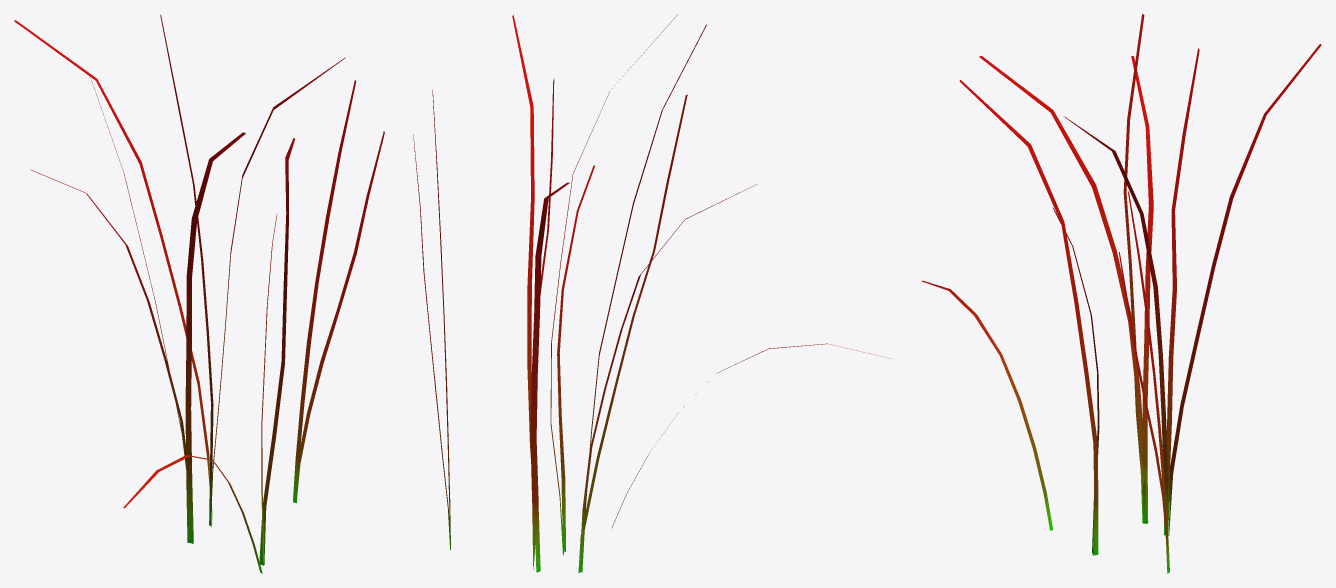
Rendered from Softstem Bulrush_LOD2_Var1_uehjcafia.fbx.
3 views of the same model, side by side, from view 1: azimuth 30°, elevation 25°; view 2: azimuth 150°, elevation 25°; view 3: azimuth 270°, elevation 25° (orthographic). The views are drawn at different scales.
Parts seen in each view (by area): view 1: _8410_Var1_LOD2; view 2: _8410_Var1_LOD2; view 3: _8410_Var1_LOD2.
Boxes of the visible parts, <box> form: _8410_Var1_LOD2: <box>14,14,384,573</box>; _8410_Var1_LOD2: <box>413,14,891,573</box>; _8410_Var1_LOD2: <box>921,14,1321,573</box>.
Size of the model in its own units: 59.56 by 80.89 by 60.41.
